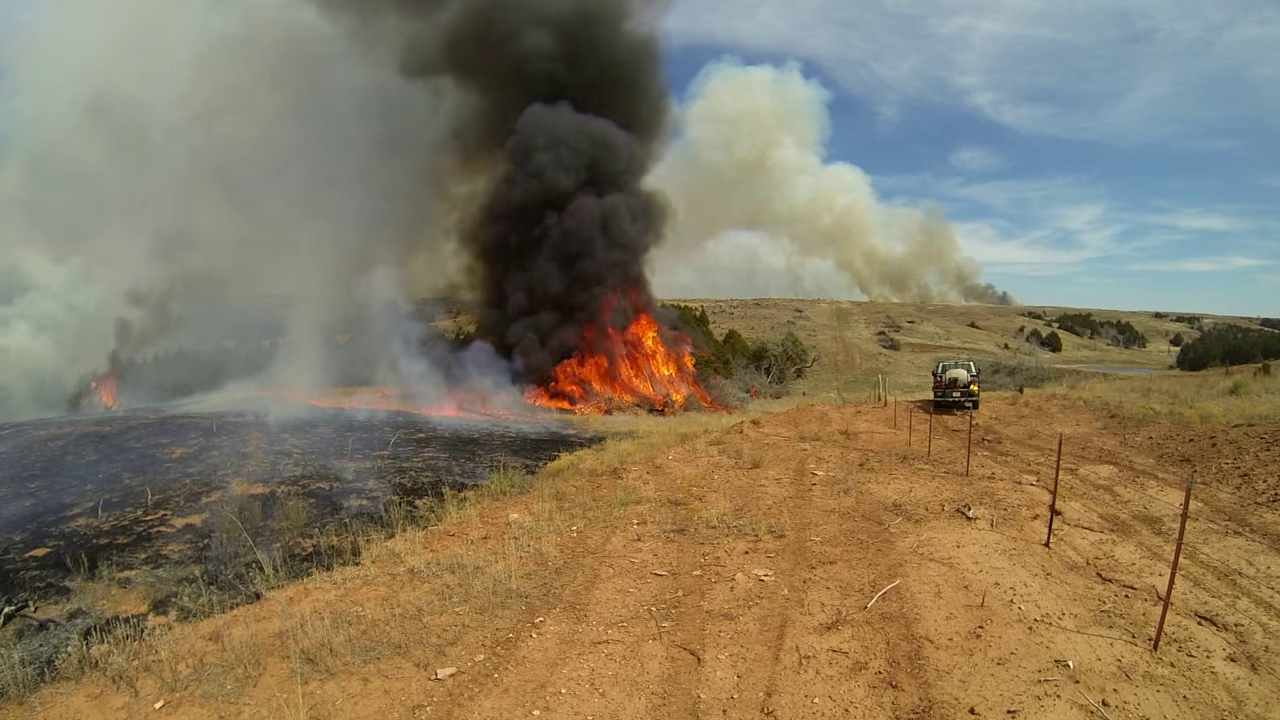forest_fire: (525, 311, 717, 412), (91, 371, 118, 409), (606, 302, 610, 313)
